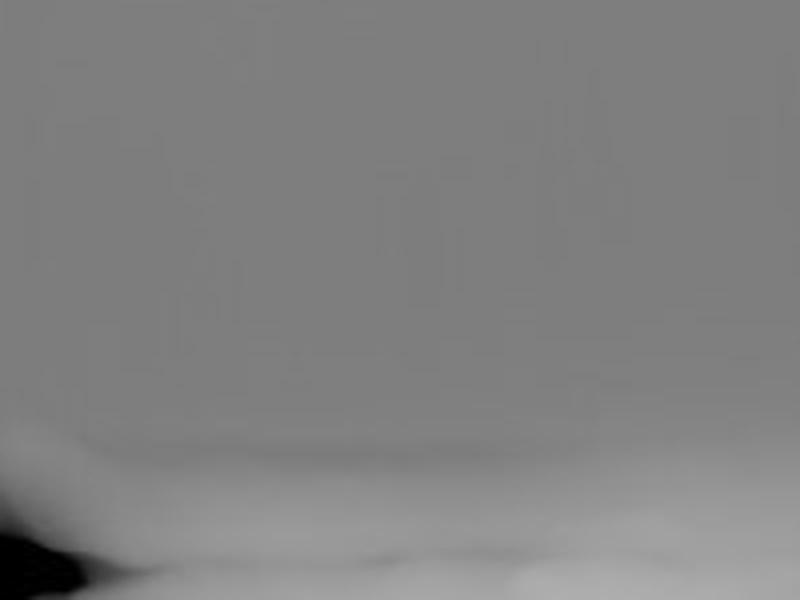defect: (2, 525, 89, 597)
